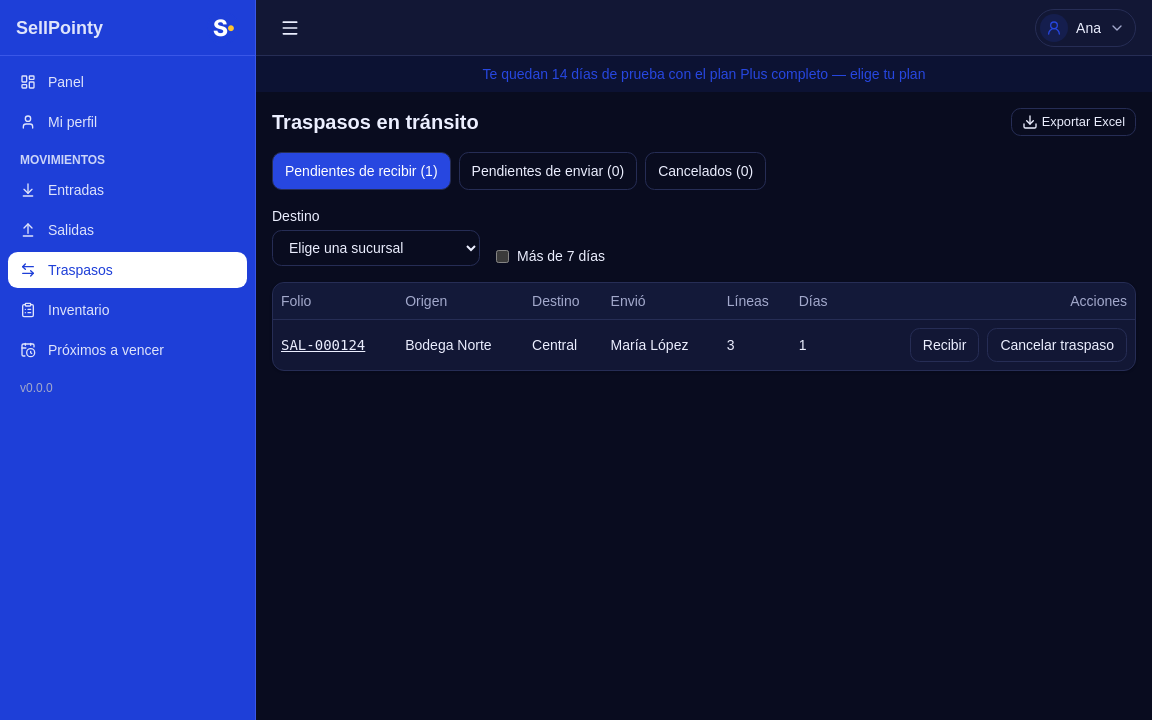
Test: Cancelar un traspaso (F3-TRANSFER-07) › el diálogo avisa que el stock no vuelve al origen
Check: the link "SAL-000124" is shown, box left=281, top=337, right=365, bottom=353
Click the button "Cancelar traspaso": (1057, 345) left=987, top=328, right=1127, bottom=362
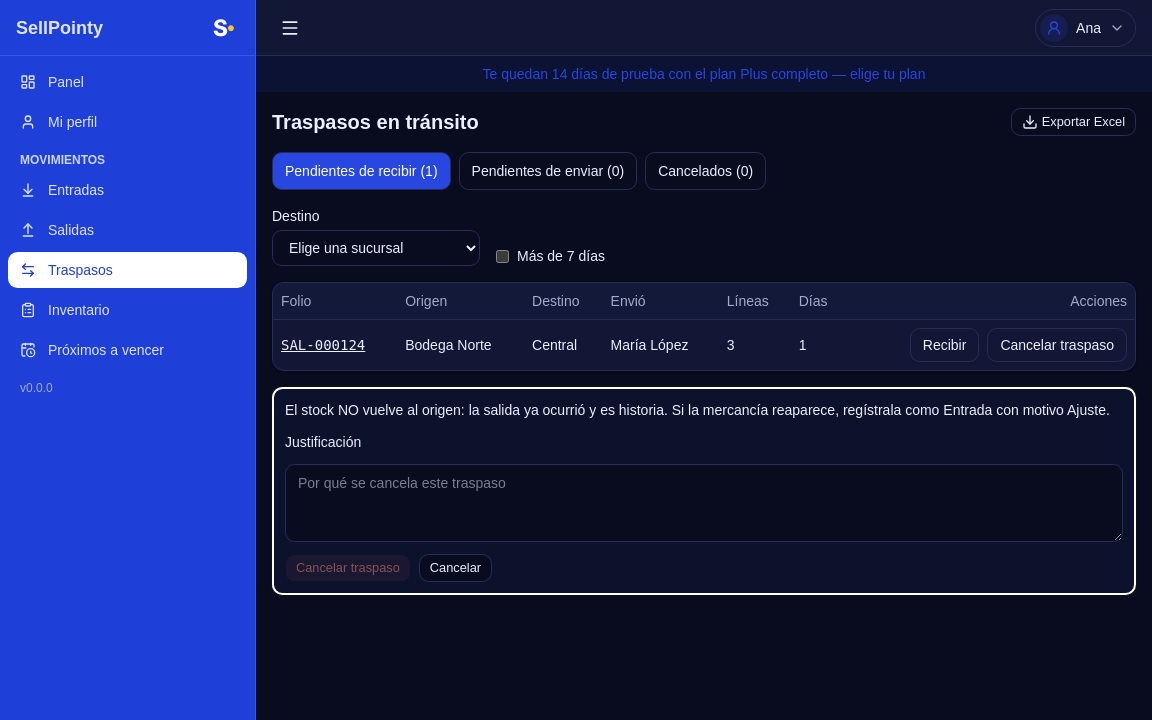
Check: the text "motivo Ajuste" is shown, box left=285, top=402, right=1110, bottom=418
